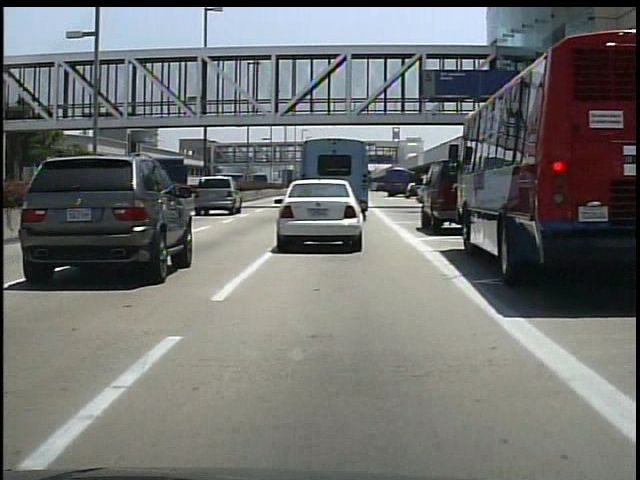car: (6, 151, 189, 286), (271, 174, 374, 258), (191, 174, 238, 220), (373, 167, 418, 208)
